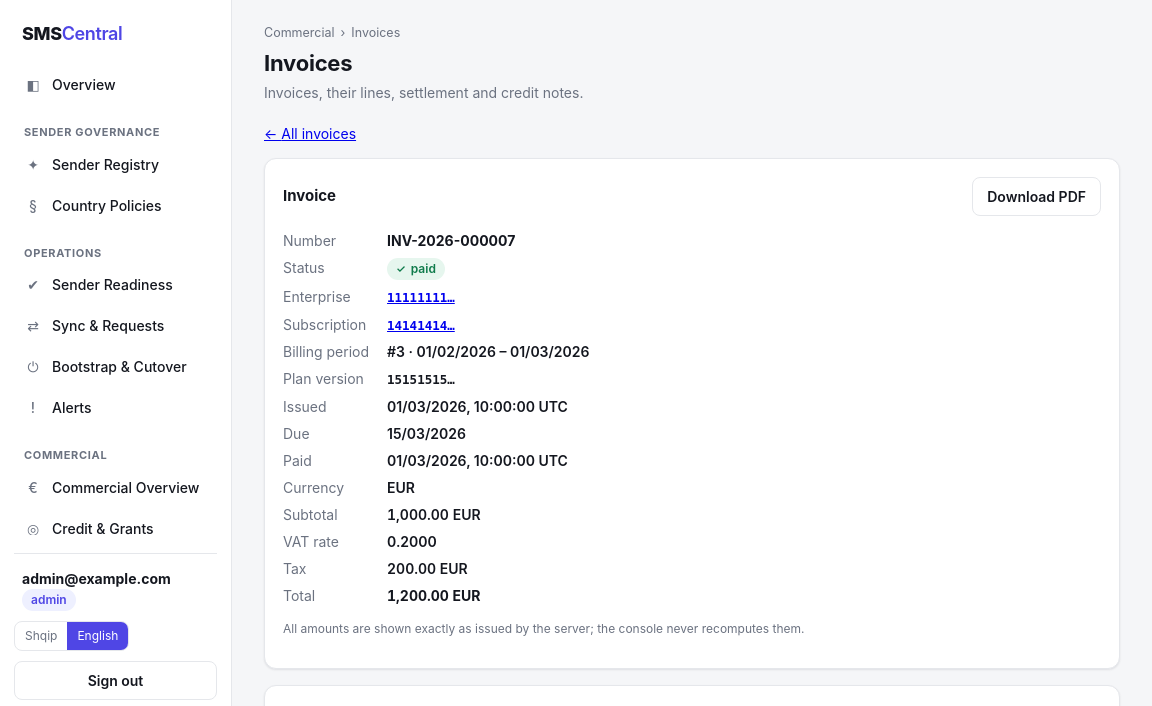
Scenario: official invoice PDF — Central › 13 a 5xx is sanitized (no stack trace, no internal text)
Expected: the navigation bar named "Main navigation" is shown, [14,65,217,535]
Click the button with aria-label "Download official PDF of invoice INV-2026-000007".
click(1037, 196)  # box [972,177,1101,216]
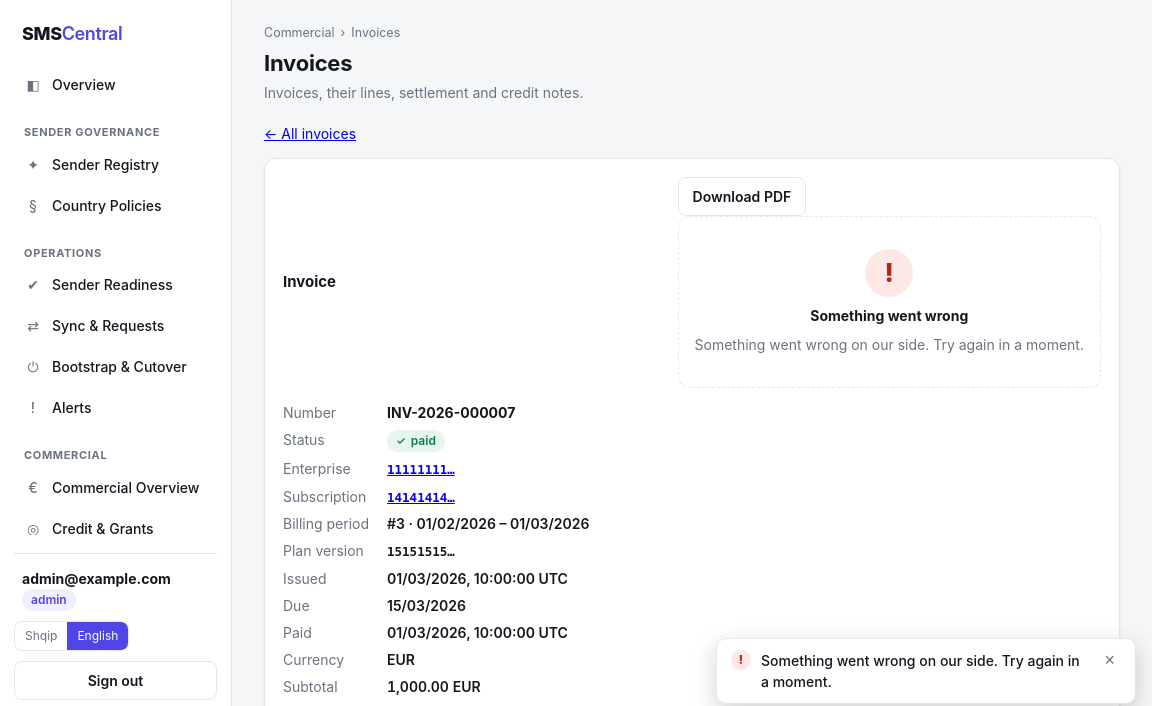
Now the text "Something went wrong on our side" is shown, box [694,336,1084,353]
